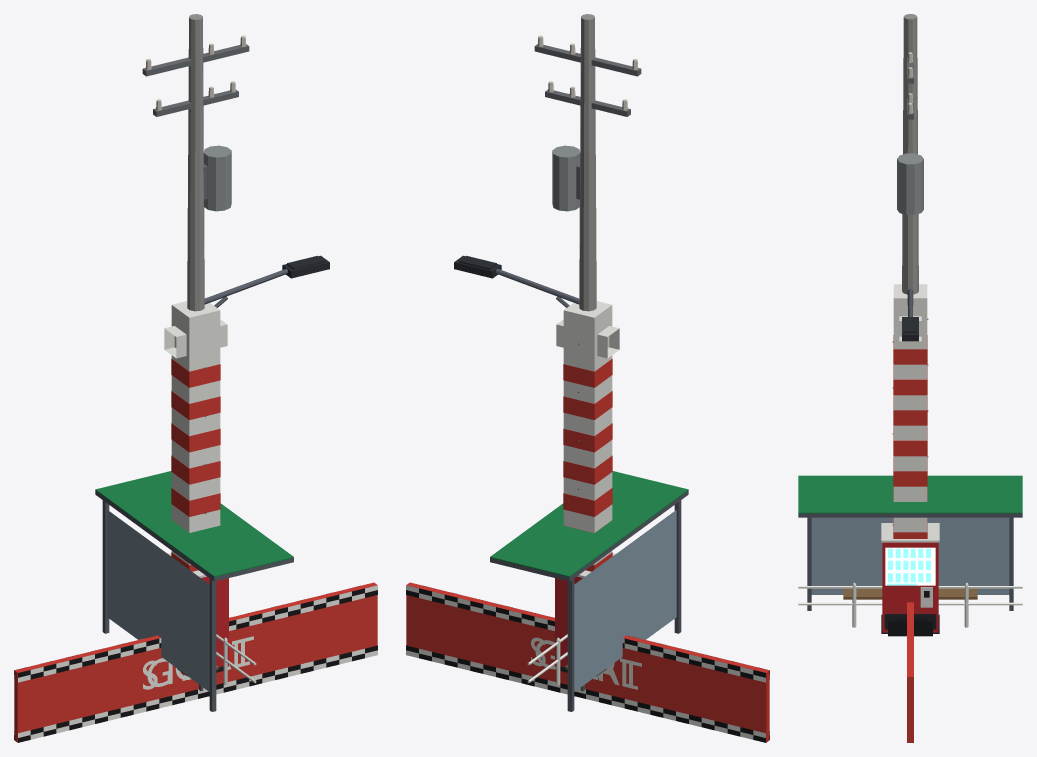
Rendered from street.glb.
3 views of the same model, side by side, from view 1: azimuth 30°, elevation 25°; view 2: azimuth 150°, elevation 25°; view 3: azimuth 270°, elevation 25° (orthographic). The views are drawn at different scales.
Visible parts, largest first — view 1: GT_Goal, BS_Shelter, GT_Post, UP_Pole, SL_Pole, VM_Body, GT_Beam; view 2: GT_Goal, BS_Shelter, GT_Post, UP_Pole, SL_Pole, VM_Body, GT_Beam; view 3: BS_Shelter, GT_Post, UP_Pole, VM_Body, VM_Light, GR_Pipe, GT_Goal, SL_Pole.
Boxes of the visible parts, box(x1,y1,x2,y2) form: GT_Goal: box(14, 582, 377, 742); BS_Shelter: box(95, 471, 293, 711); GT_Post: box(171, 301, 220, 676); UP_Pole: box(142, 14, 249, 514); SL_Pole: box(204, 255, 329, 307); VM_Body: box(168, 553, 228, 672); GT_Beam: box(164, 319, 227, 358); GT_Goal: box(406, 582, 769, 742); BS_Shelter: box(490, 471, 688, 711); GT_Post: box(563, 301, 612, 676); UP_Pole: box(534, 14, 641, 489); SL_Pole: box(454, 255, 579, 307); VM_Body: box(555, 553, 615, 672); GT_Beam: box(556, 319, 619, 358); BS_Shelter: box(798, 475, 1022, 610); GT_Post: box(888, 284, 932, 636); UP_Pole: box(892, 14, 928, 525); VM_Body: box(881, 523, 939, 633); VM_Light: box(885, 547, 935, 585); GR_Pipe: box(798, 582, 1022, 627); GT_Goal: box(907, 602, 913, 742); SL_Pole: box(902, 289, 918, 341).
Bounding box in the file's own units: 7 × 12.65 × 4.
